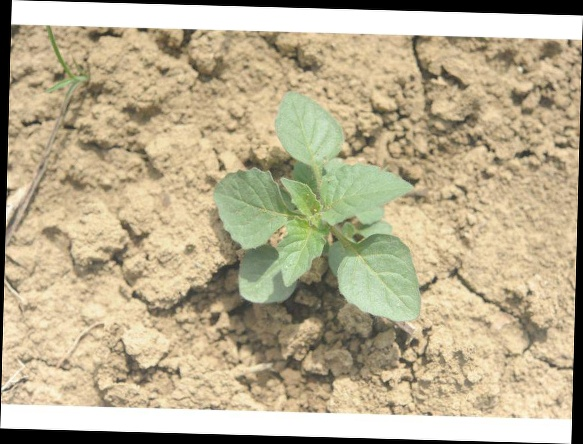nightshade: (215, 88, 423, 318)
